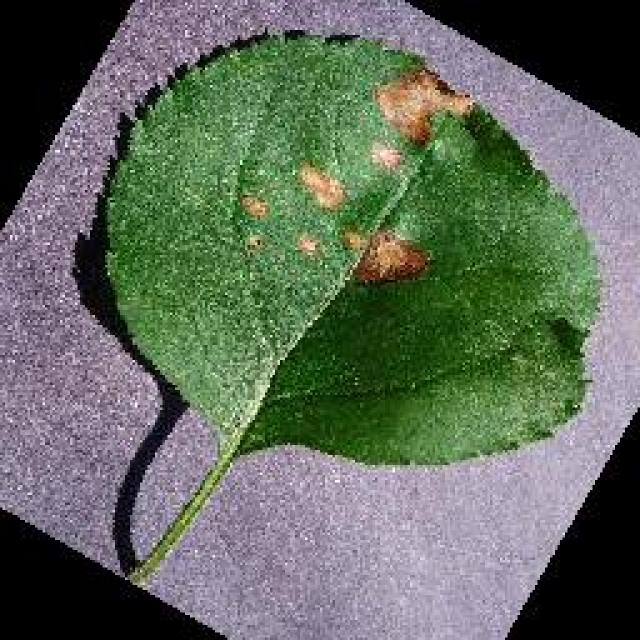Black_rot: (95, 28, 603, 588)
